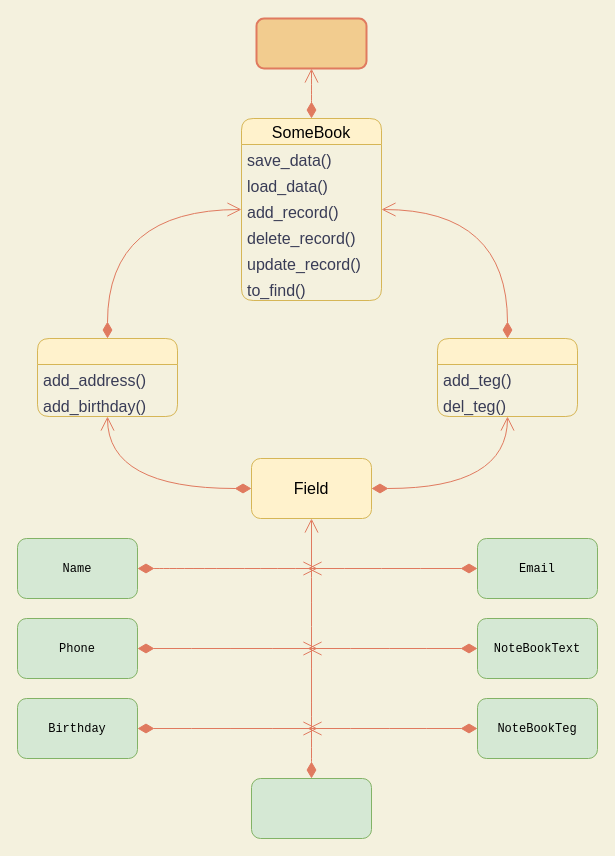
This 615x856 diagram has some shape labels left out. The shapes that lost their labels are listed below. From the top down, each one's box as (x1, y1, x2, y2) in pixels, then its label:
(255, 17, 367, 69): UserDict
(36, 338, 178, 416): Record
(436, 338, 578, 416): NoteBookRecord
(250, 778, 372, 838): Address
